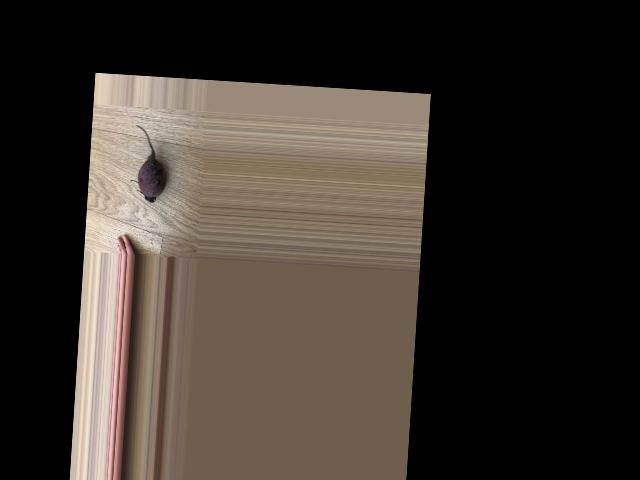beet: (129, 124, 169, 202)
